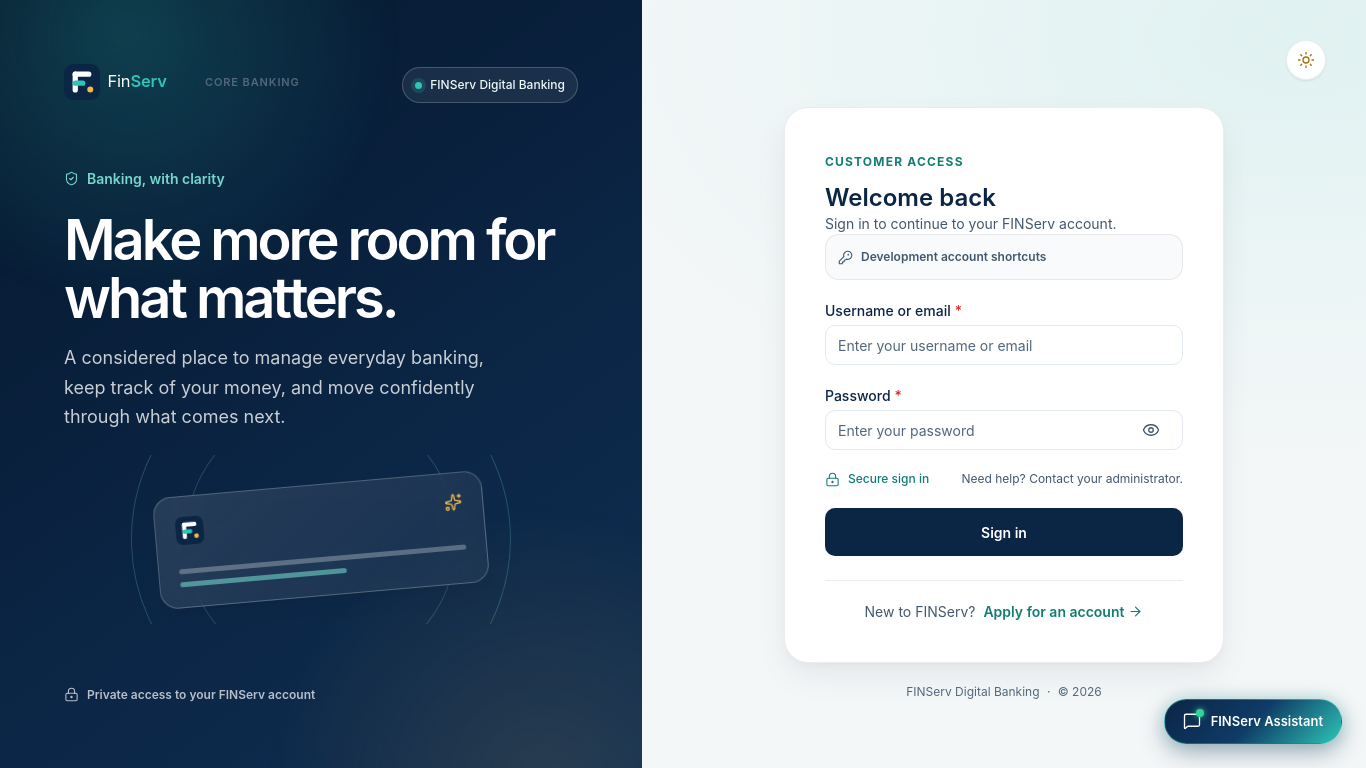
Test: LoginPage confirmed transitions › does not play a success transition when login fails
Type "customer" into the field labelled "Username or email *". click: (1004, 345)
box: x1=825 y1=325 x2=1183 y2=365
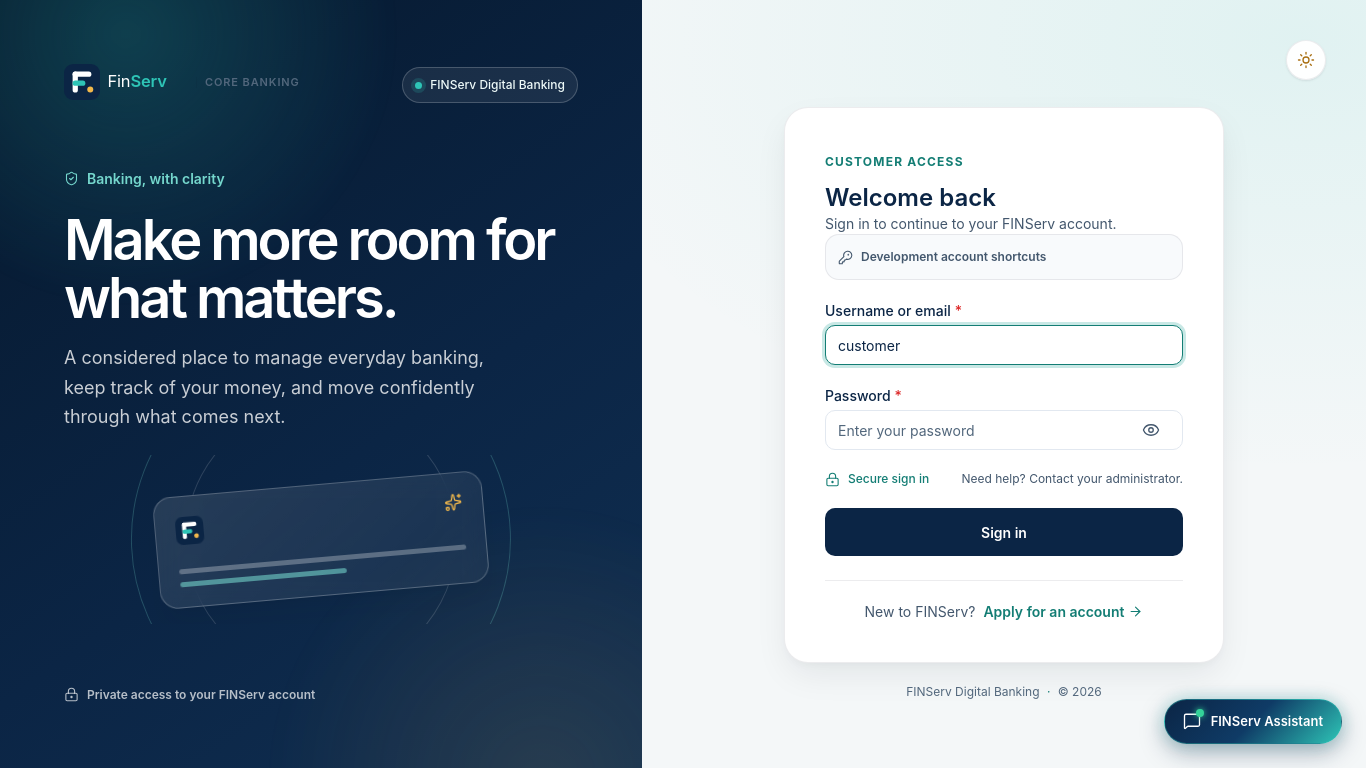
Type "valid-password" into the password field with placeholder "Enter your password". click: (1004, 430)
box: x1=825 y1=410 x2=1183 y2=450
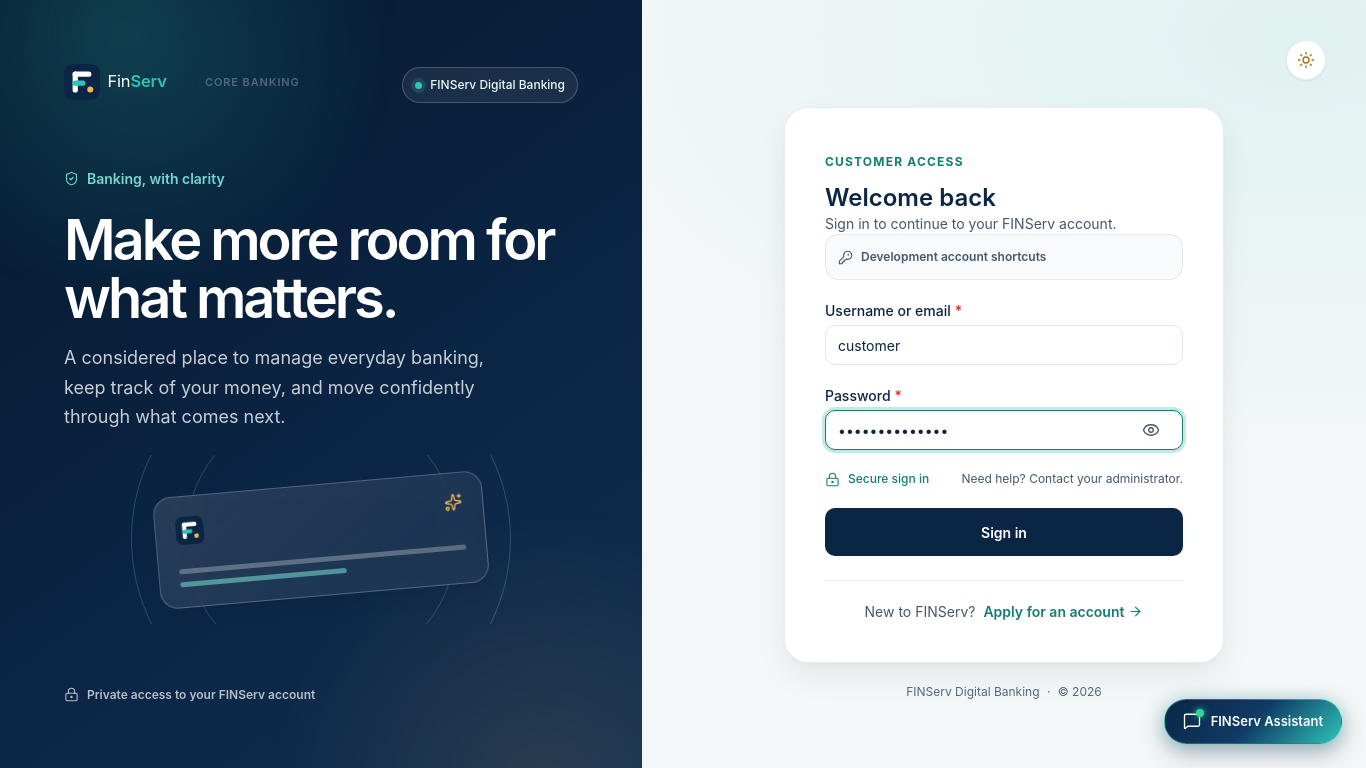
Click the button "Sign in". click: (1004, 532)
box: x1=825 y1=508 x2=1183 y2=556
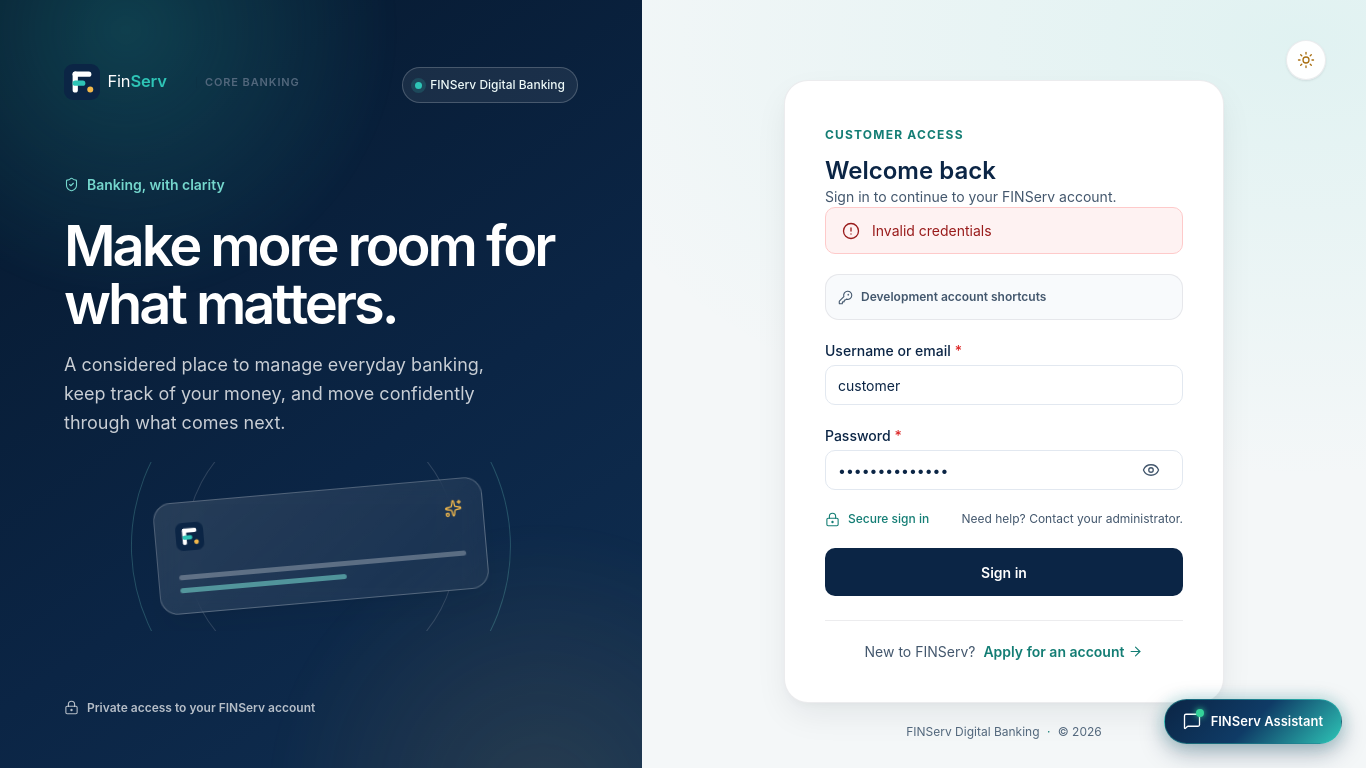
Now the message reads "Invalid credentials", box x1=872 y1=222 x2=992 y2=239
